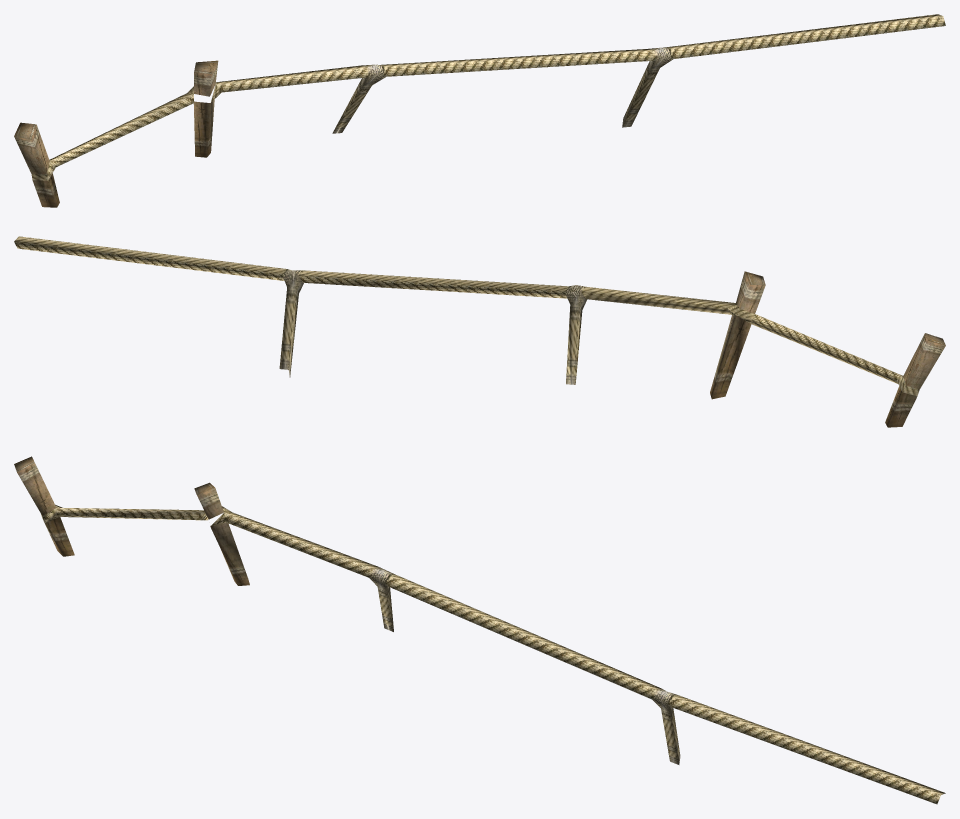
File: Mission8_RopeBridge_A1.glb
The picture shows the model from 3 angles, top to bottom: view 1: azimuth 30°, elevation 25°; view 2: azimuth 150°, elevation 25°; view 3: azimuth 330°, elevation 25°; orthographic projection.
Visible parts, largest first — view 1: MISSION8_ROPEBRIDGE_A1; view 2: MISSION8_ROPEBRIDGE_A1; view 3: MISSION8_ROPEBRIDGE_A1.
Part boxes in pixels (x1=…): MISSION8_ROPEBRIDGE_A1: x1=14, y1=14, x2=945, y2=207; MISSION8_ROPEBRIDGE_A1: x1=14, y1=236, x2=945, y2=427; MISSION8_ROPEBRIDGE_A1: x1=14, y1=456, x2=945, y2=804.
Bounding box in the file's own units: 12.78 × 2.55 × 0.866.
4 materials, 4 textured.
